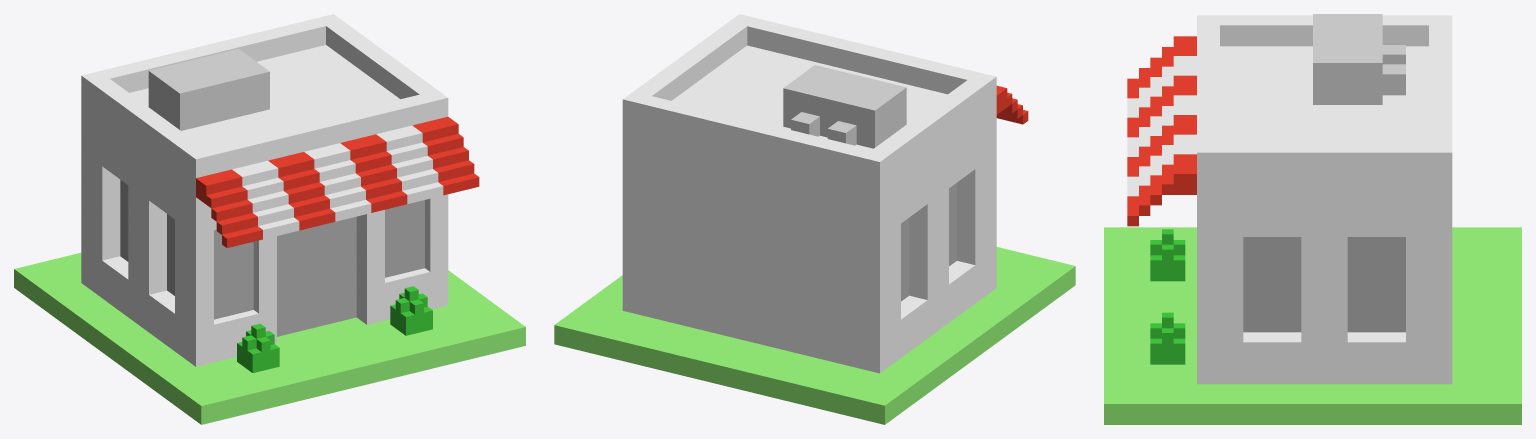
Rendered from Business.glb.
3 renders of one model, left to right at view 1: azimuth 30°, elevation 25°; view 2: azimuth 150°, elevation 25°; view 3: azimuth 270°, elevation 25°, orthographic. The views are drawn at different scales.
Parts seen in each view (by area): view 1: store; view 2: store; view 3: store.
Boxes of the visible parts, x1,y1,x2,y2 form: store: (14, 14, 525, 424); store: (554, 14, 1075, 424); store: (1104, 14, 1521, 424).
Bounding box in the file's own units: 4.5 × 3.25 × 4.5.
